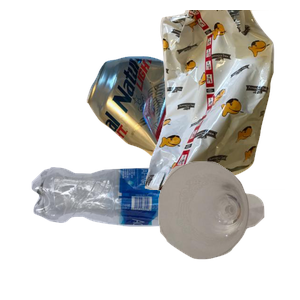glass: (156, 159, 300, 300)
metal: (84, 53, 279, 202)
plastic: (29, 165, 227, 300)
trash: (127, 10, 300, 190)
